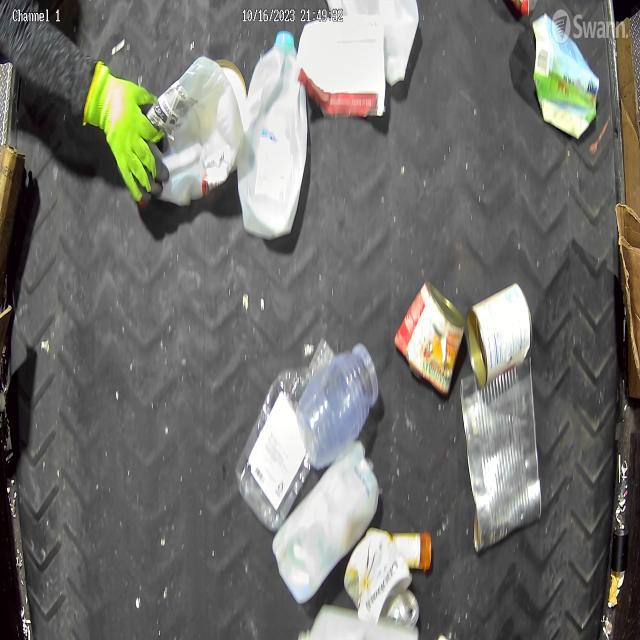can: (459, 352, 543, 556), (393, 277, 466, 398), (464, 280, 535, 388), (342, 522, 414, 626), (388, 588, 420, 628)
milk_jug: (270, 436, 382, 607), (236, 30, 309, 242), (145, 54, 244, 208), (326, 0, 419, 91)
plastic_bottle: (234, 336, 338, 532)
